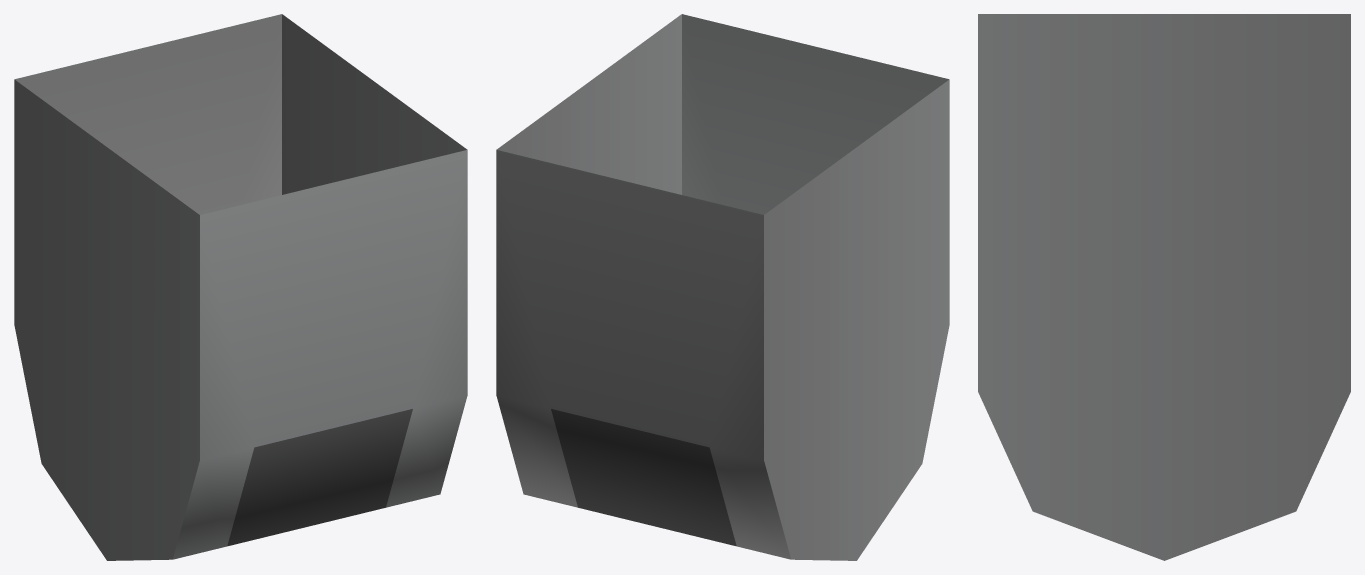
File: Support_004.fbx
The picture shows the model from 3 angles, left to right: view 1: azimuth 30°, elevation 25°; view 2: azimuth 150°, elevation 25°; view 3: azimuth 270°, elevation 25°; orthographic projection.
Parts seen in each view (by area): view 1: Support_004; view 2: Support_004; view 3: Support_004.
Part boxes in pixels (box(x1,y1,x2,y2)): Support_004: box(14, 14, 467, 560); Support_004: box(496, 14, 949, 560); Support_004: box(978, 14, 1350, 560).
Size of the model in its own units: 6.94 by 8.33 by 10.26.
